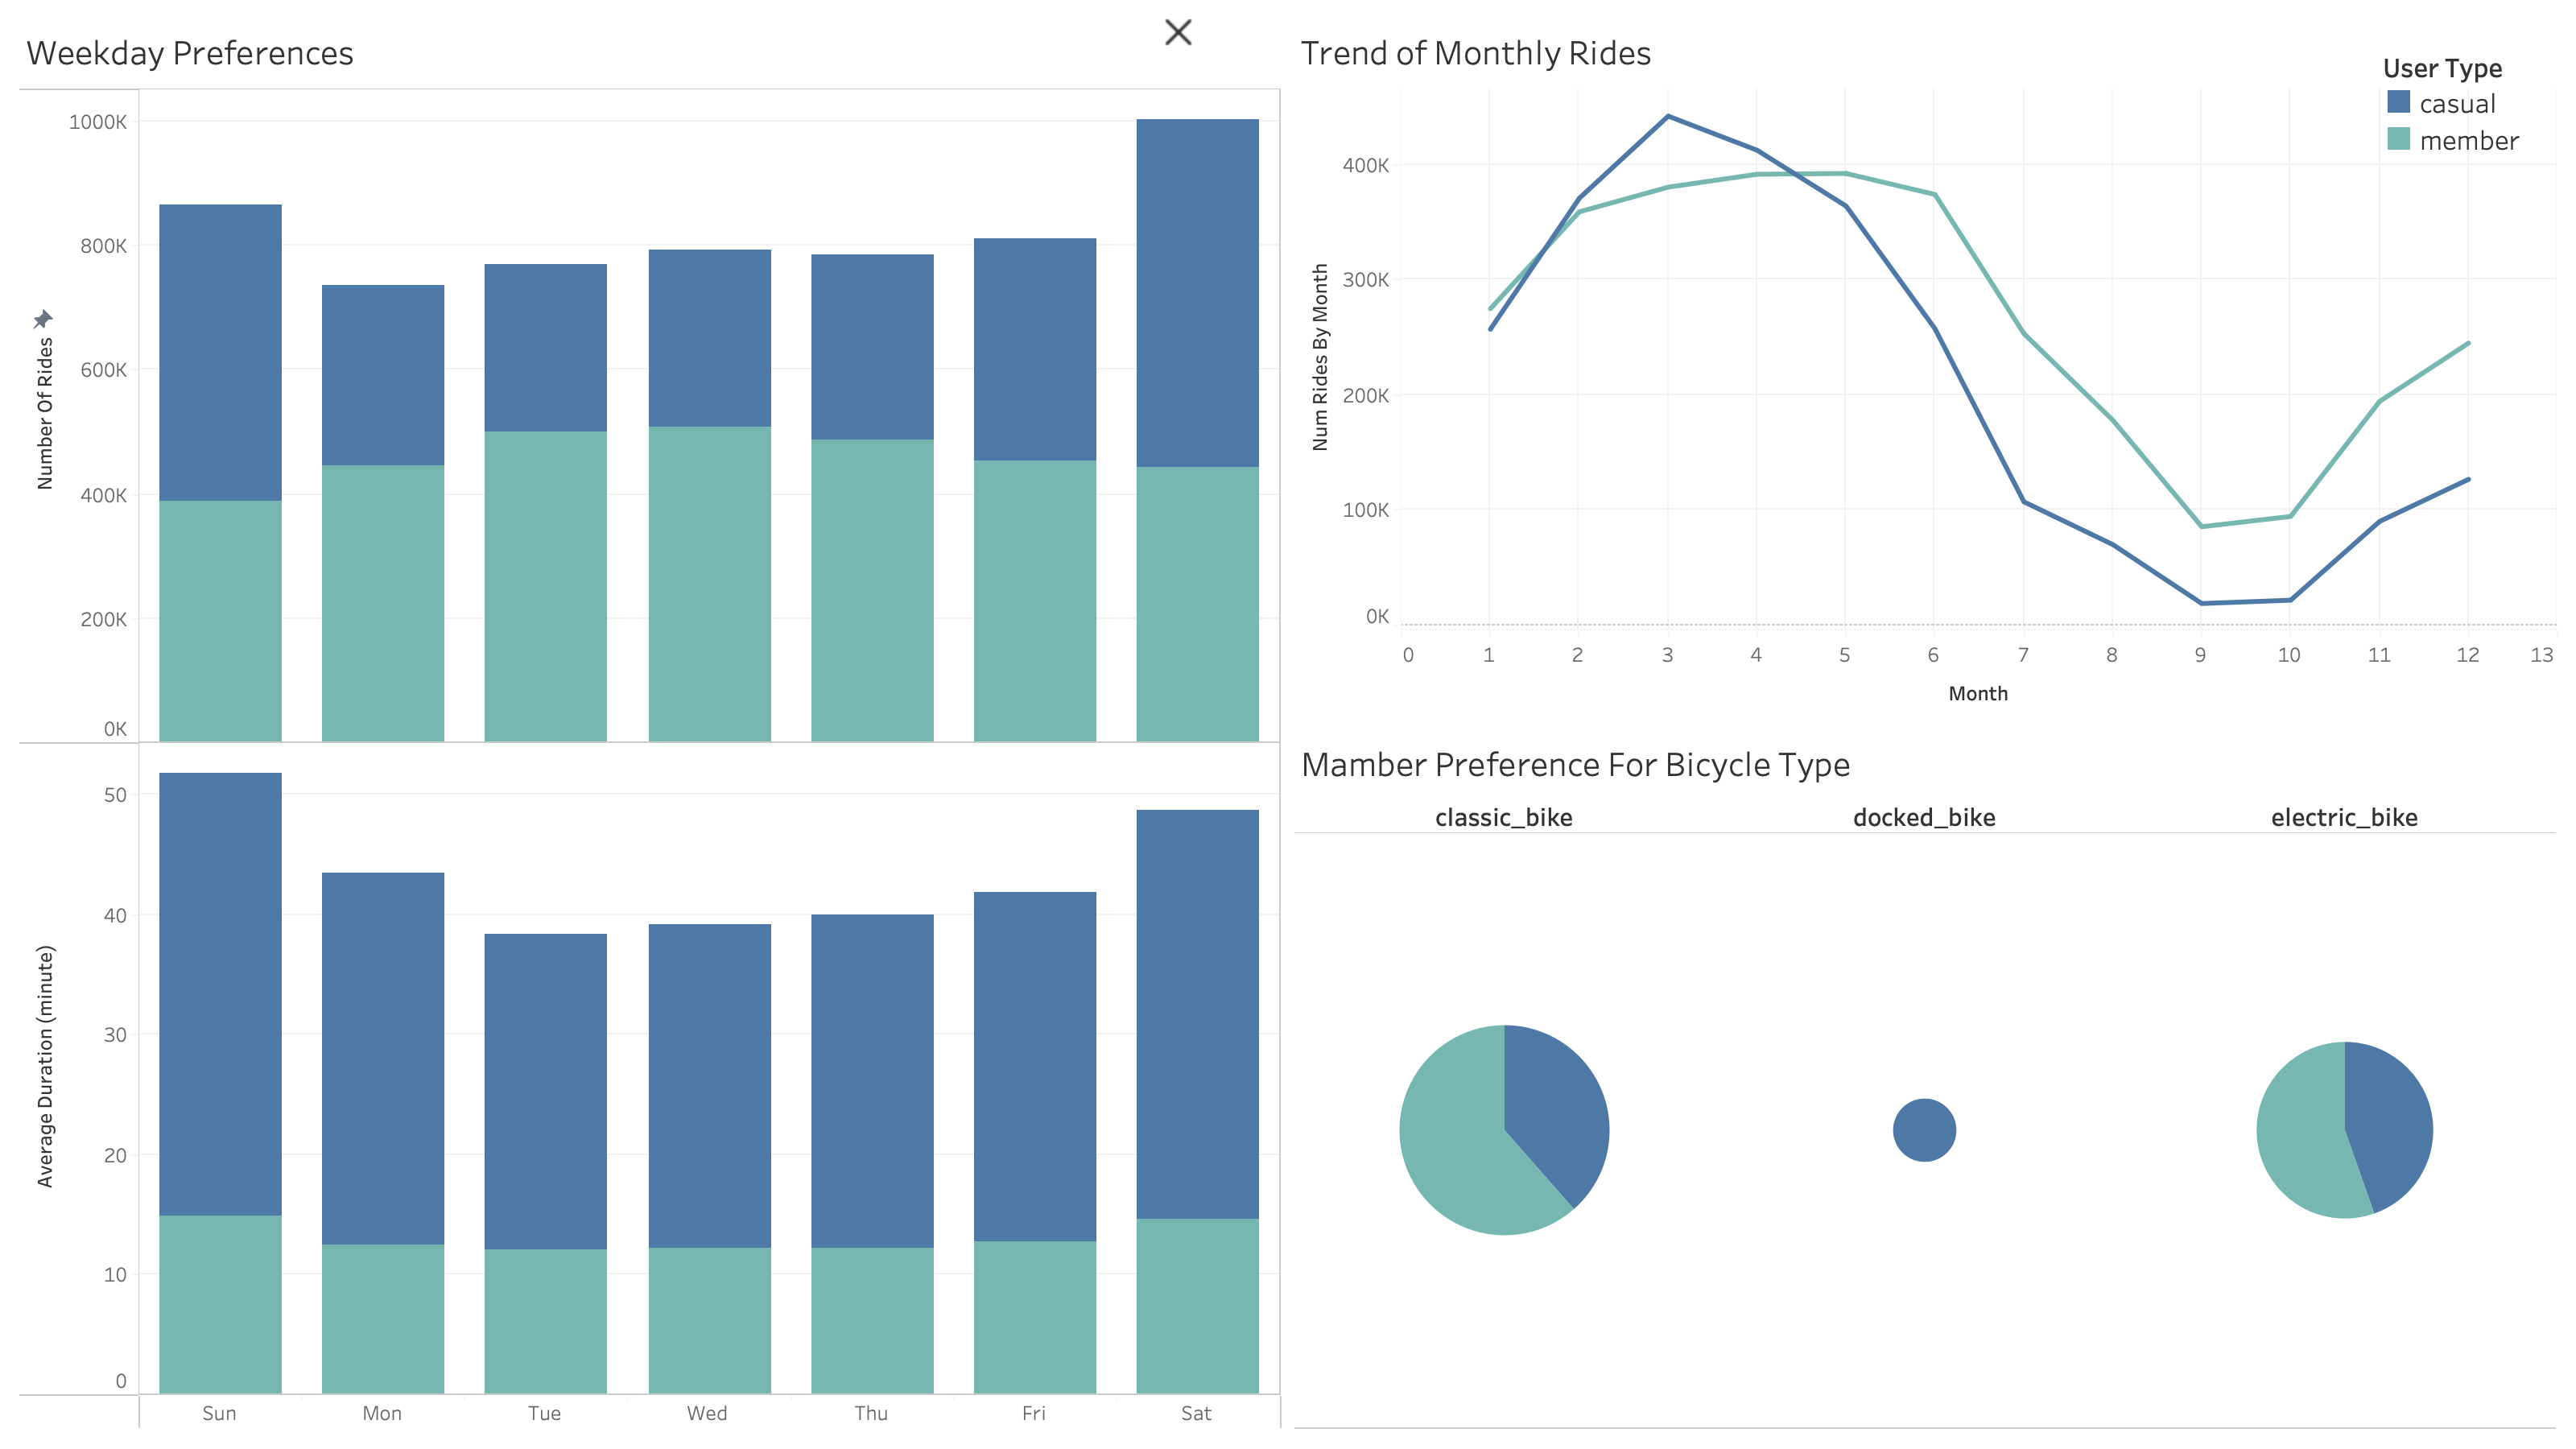

The page's visual inventory and layout, read from the dashboard file:
{"tool":"tableau","page":{"name":"Dashboard 1","canvas":[1600,900],"ordinal":0},"visuals":[{"type":"worksheet","title":"Sheet 2","mark":"Automatic","rows":["number_of_rides","average_duration"],"cols":["weekday"],"box":[8,8,792,884]},{"type":"dashboard-object","box":[720,8,24,24]},{"type":"worksheet","title":"Sheet 3","mark":"Line","rows":["num_rides_by_month"],"cols":["num_of_rides"],"box":[800,8,792,442]},{"type":"legend","title":"Sheet 3","param":"[federated.07zrk2c1ocvb3517j1lsg0tebq1y].[none:member_casual:nk]","box":[1479,29,115,78]},{"type":"worksheet","title":"Sheet 4","mark":"Pie","cols":["rideable_type"],"box":[800,450,792,442]}]}

Visuals, with their boxes in screenshot pixels (x1, y1, x2, y2), scaled from the page's 1600x900 canvas onto the 2576x1449 screenshot:
"Sheet 2" worksheet: x1=13, y1=13, x2=1288, y2=1436
dashboard-object: x1=1159, y1=13, x2=1198, y2=52
"Sheet 3" worksheet (Line marks): x1=1288, y1=13, x2=2563, y2=724
"Sheet 3" legend: x1=2381, y1=47, x2=2566, y2=172
"Sheet 4" worksheet (Pie marks): x1=1288, y1=724, x2=2563, y2=1436
